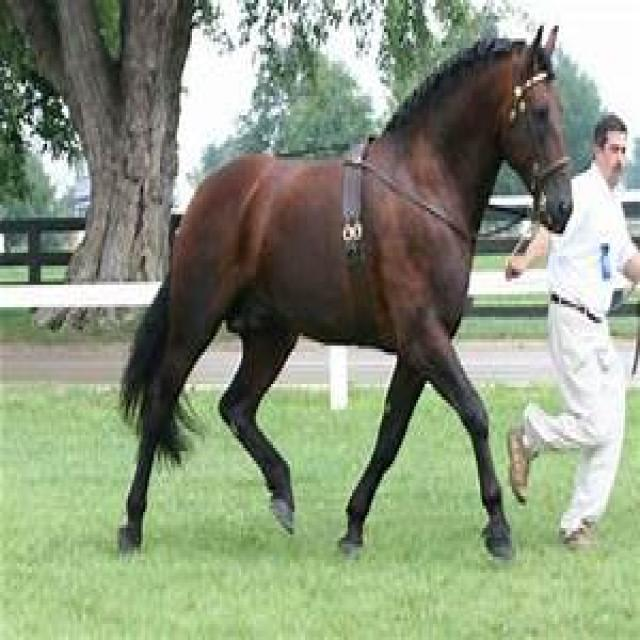animal: (115, 22, 572, 564)
